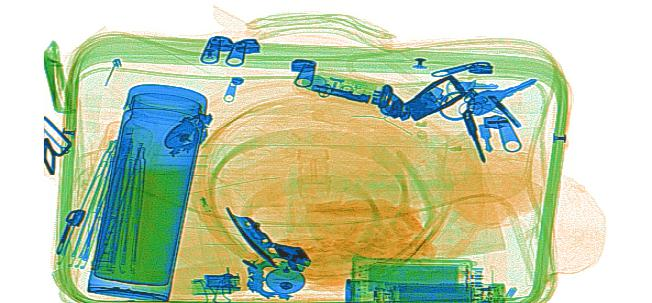battery: (351, 252, 486, 297), (386, 282, 478, 300)
